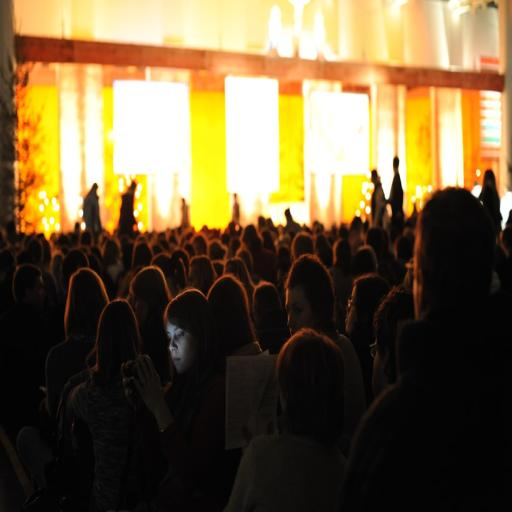face: (166, 322, 198, 374), (286, 286, 318, 335), (129, 294, 149, 326), (26, 278, 45, 311)
